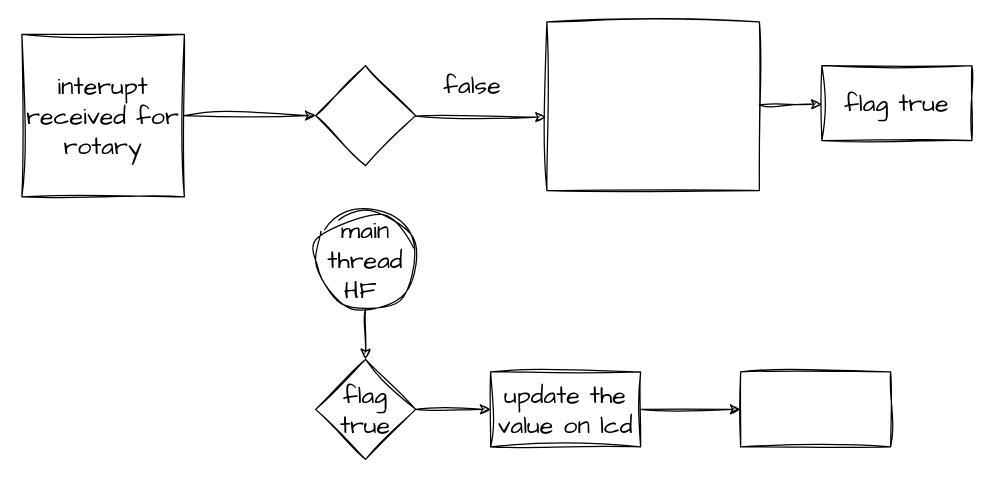
This 994x481 diagram has some shape labels left out. Here are the shapes that lost their labels. From the top down, the box of each, then its label:
(314, 64, 416, 166): check flag
(546, 21, 759, 191): read the rotary and update the global variable for freq
(739, 371, 891, 447): flag false
